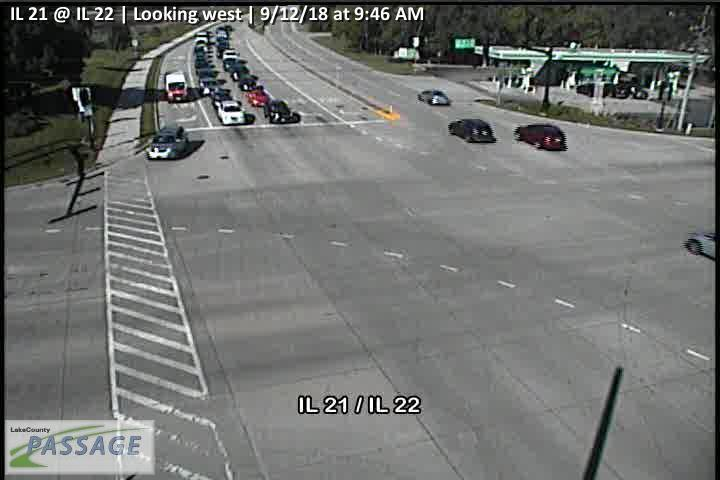SUV: (145, 125, 187, 161), (263, 99, 291, 124), (218, 100, 246, 124), (198, 76, 219, 96)
Sedan: (512, 123, 565, 152), (448, 118, 496, 143), (209, 87, 232, 108), (417, 89, 448, 104), (247, 86, 269, 107), (229, 64, 249, 82), (239, 74, 256, 91)
Truck: (165, 71, 188, 103)
